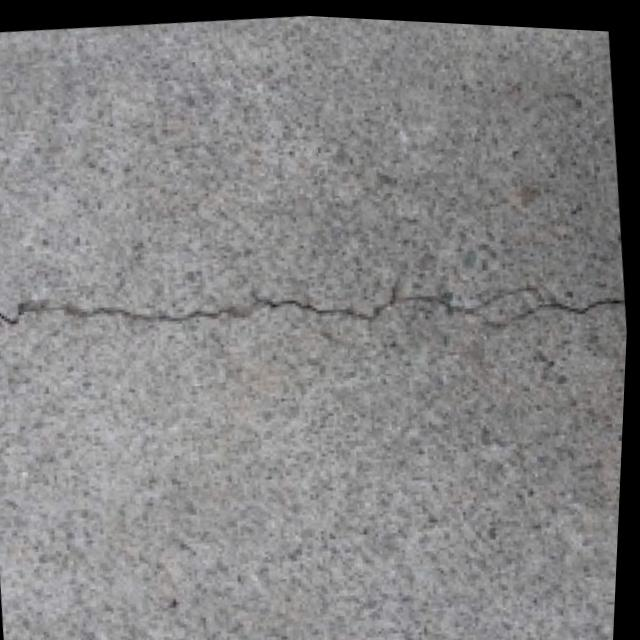Crack: (0, 191, 633, 407)
